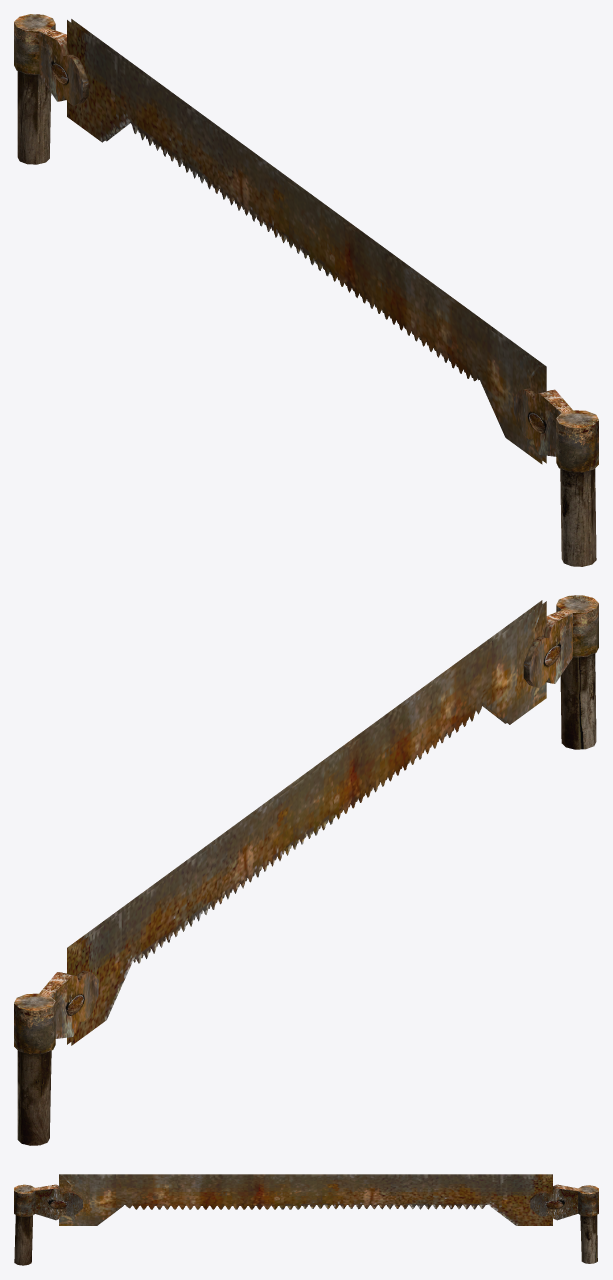
Rendered from two_man_saw.dae.
The picture shows the model from 3 angles, top to bottom: view 1: azimuth 30°, elevation 25°; view 2: azimuth 150°, elevation 25°; view 3: azimuth 270°, elevation 25°; orthographic projection. The views are drawn at different scales.
Visible parts, largest first — view 1: polySurface6; view 2: polySurface6; view 3: polySurface6.
Boxes of the visible parts, <box> form: polySurface6: <box>14,14,598,566</box>; polySurface6: <box>14,595,598,1145</box>; polySurface6: <box>14,1174,598,1265</box>.
Size of the model in its own units: 0.0619 by 0.2717 by 1.62.
